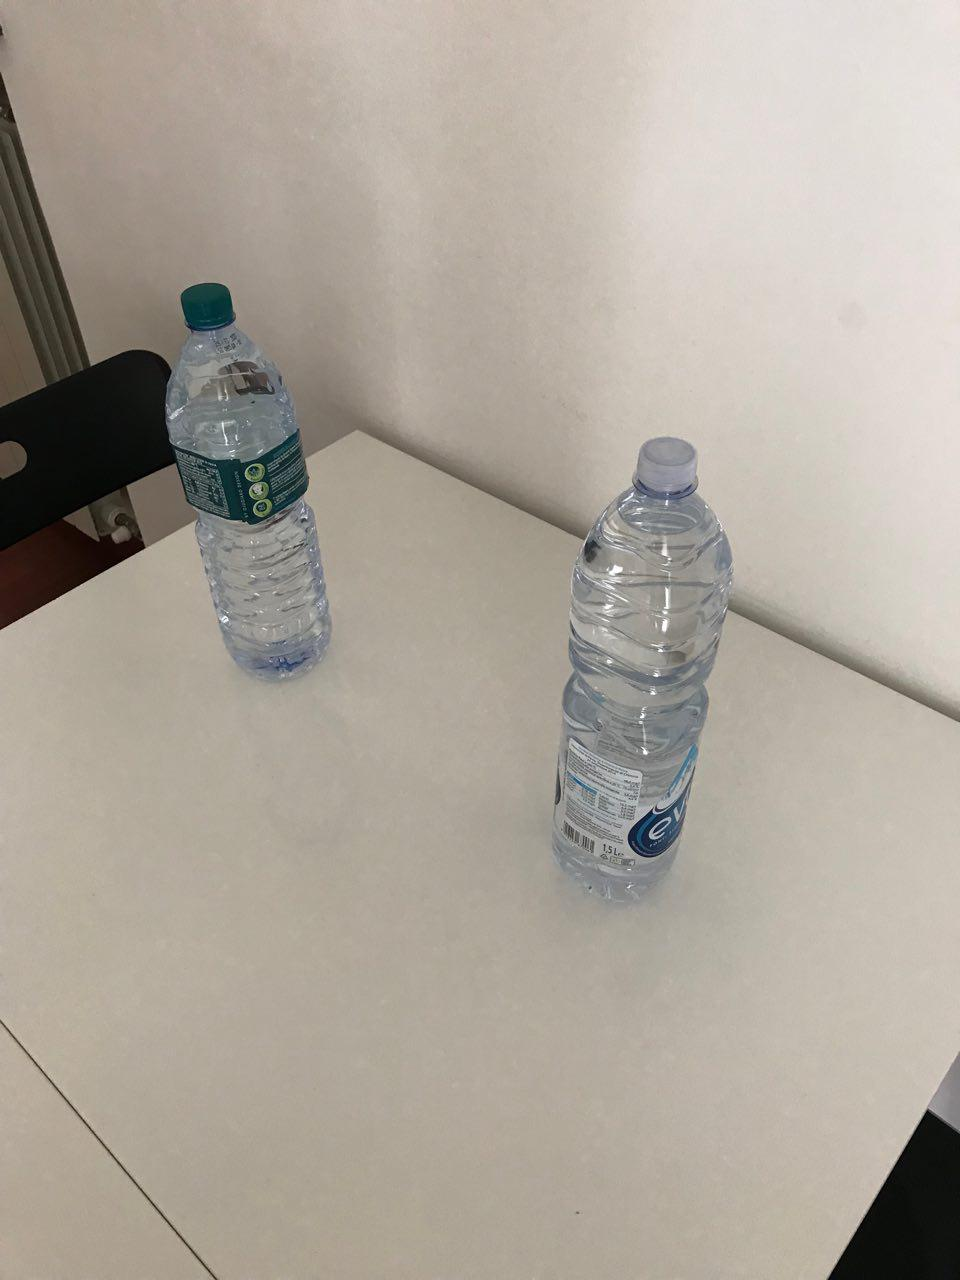san_bernardo: (163, 280, 333, 684)
